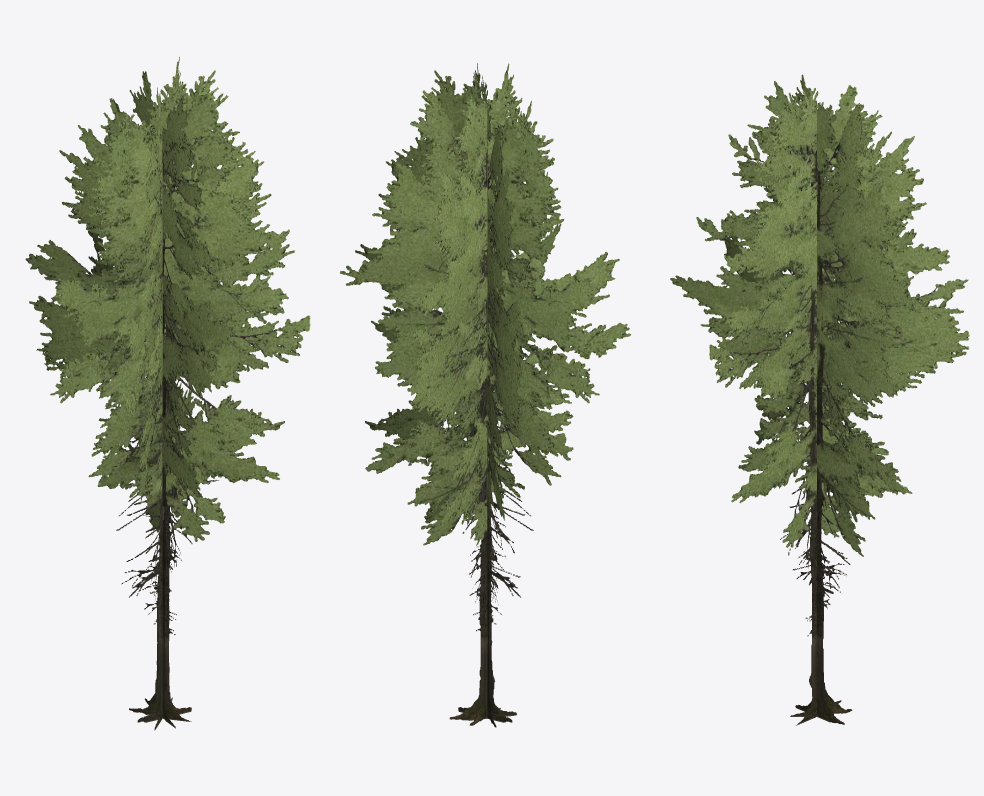
The model's file is fir_b_bb.glb.
3 renders of one model, left to right at view 1: azimuth 30°, elevation 25°; view 2: azimuth 150°, elevation 25°; view 3: azimuth 270°, elevation 25°, orthographic.
Parts seen in each view (by area): view 1: fir_b_billboard; view 2: fir_b_billboard; view 3: fir_b_billboard.
Part boxes in pixels (x1,y1,x2,y2): fir_b_billboard: (25, 56, 310, 730); fir_b_billboard: (339, 63, 631, 727); fir_b_billboard: (670, 74, 969, 725).
Bounding box in the file's own units: 6.08 × 14.01 × 6.08.
Materials: 1 (1 with a texture image).
